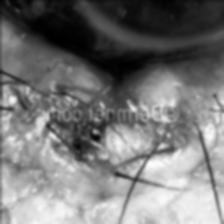Potentially Malignant Skin Tumors: (54, 92, 108, 172)
